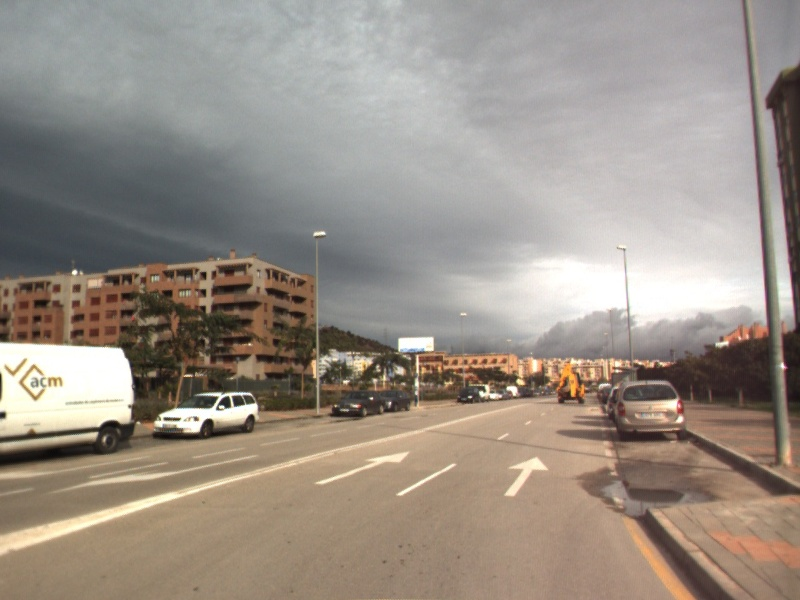STRAIGHT: (312, 450, 412, 486), (502, 454, 551, 498)
